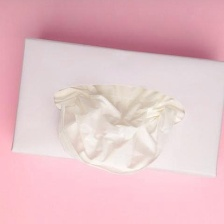book: (4, 31, 223, 183)
tissue: (47, 77, 189, 180)
